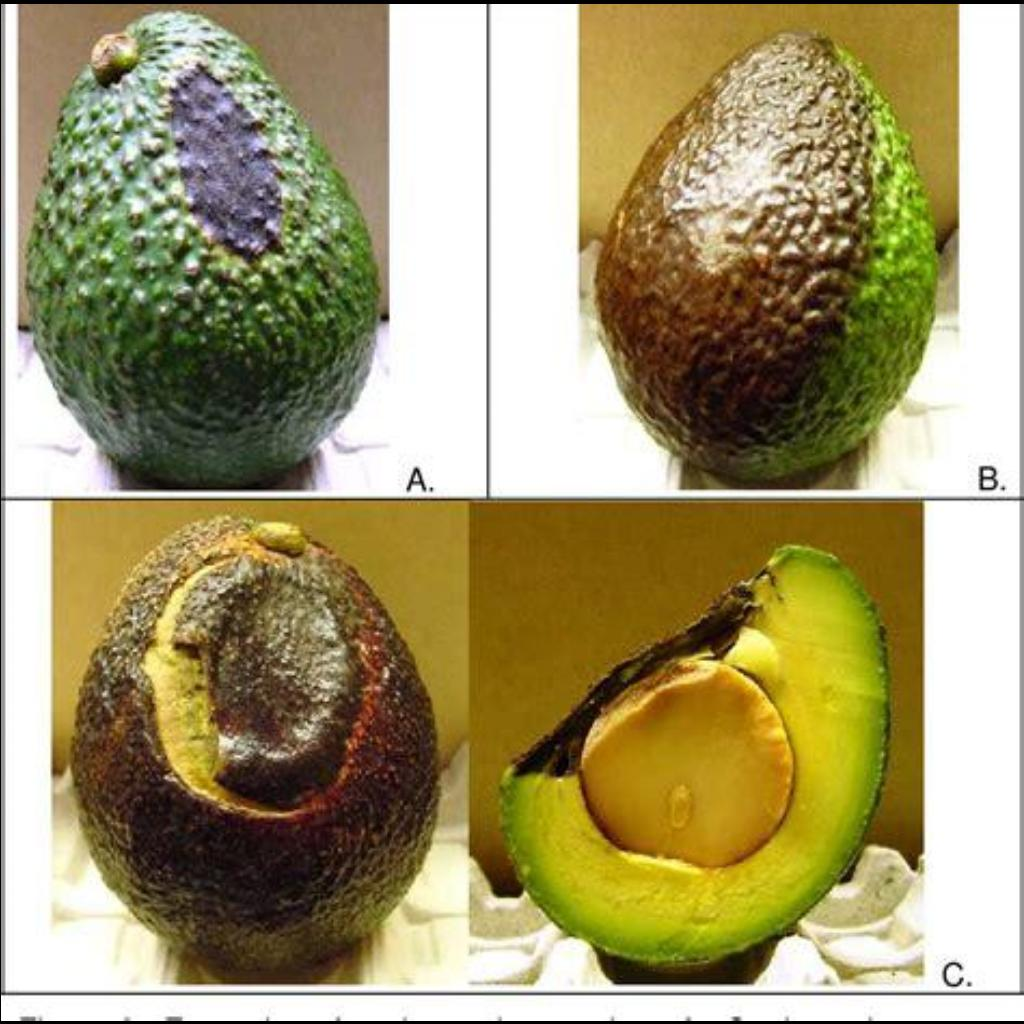Anthracnose: (547, 10, 1011, 450), (52, 510, 468, 978), (489, 524, 891, 968), (40, 23, 390, 349)
